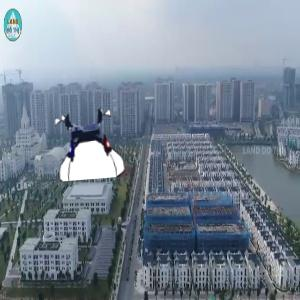drone: (52, 107, 126, 181)
